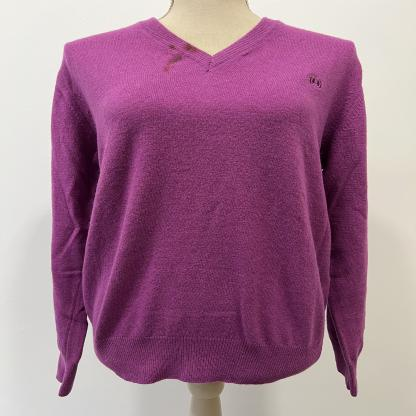stain: (160, 52, 188, 74), (182, 43, 202, 55), (165, 43, 178, 55)
